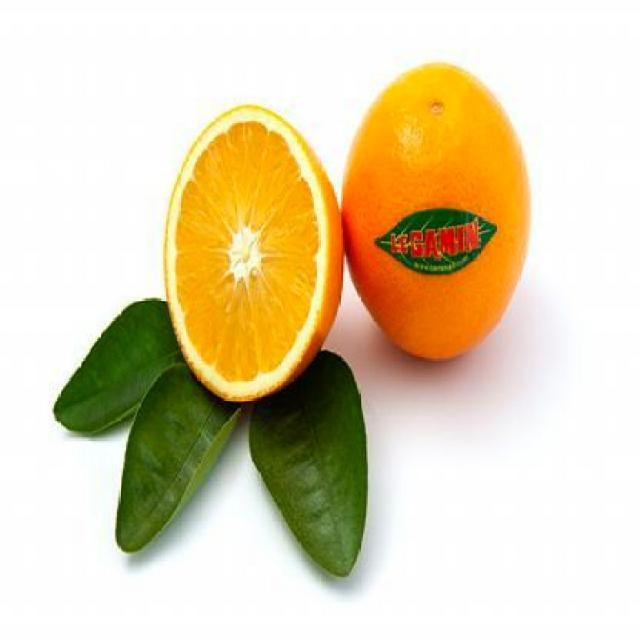Jeruk Sudah Matang: (344, 65, 528, 362)
